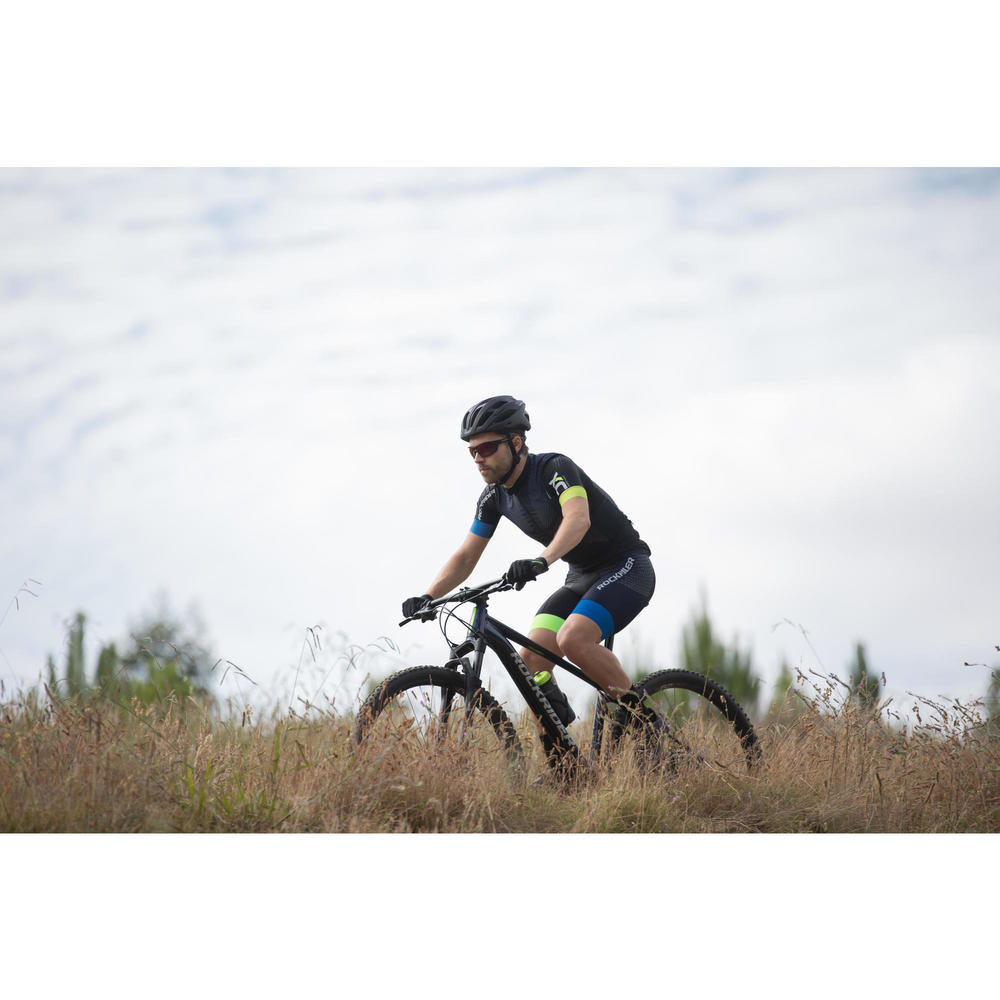MountainBike: (359, 566, 766, 793)
